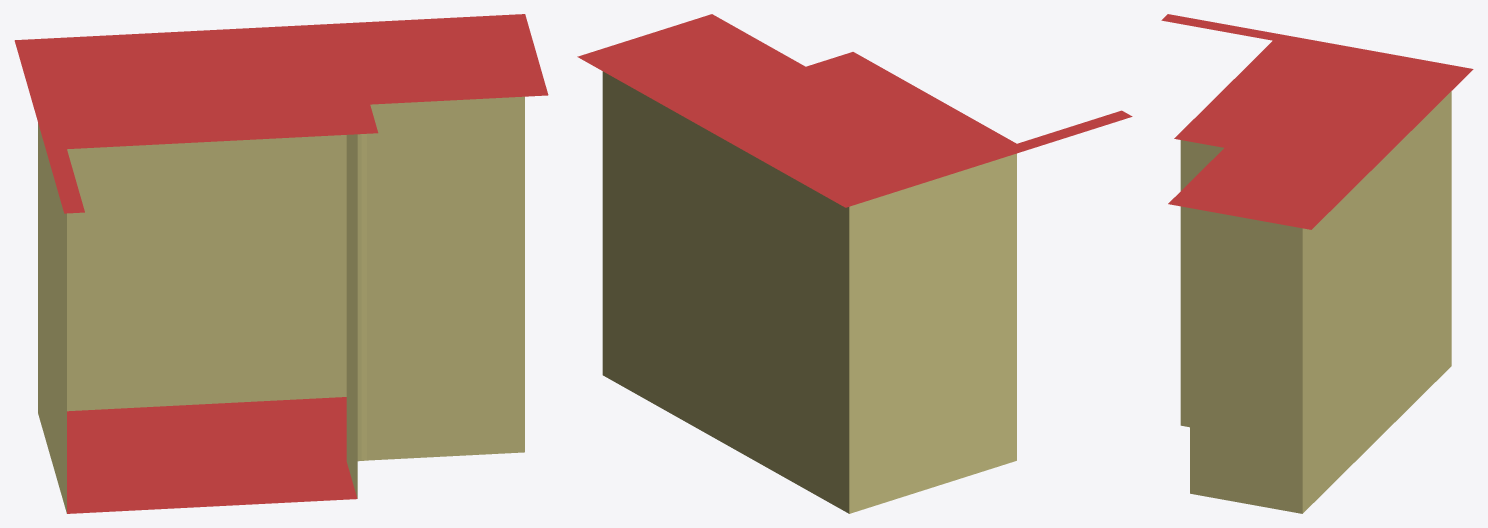
3 renders of one model, left to right at view 1: azimuth 30°, elevation 25°; view 2: azimuth 150°, elevation 25°; view 3: azimuth 270°, elevation 25°, orthographic. The views are drawn at different scales.
Bounding box in the file's own units: 15.05 × 9.21 × 9.54.
